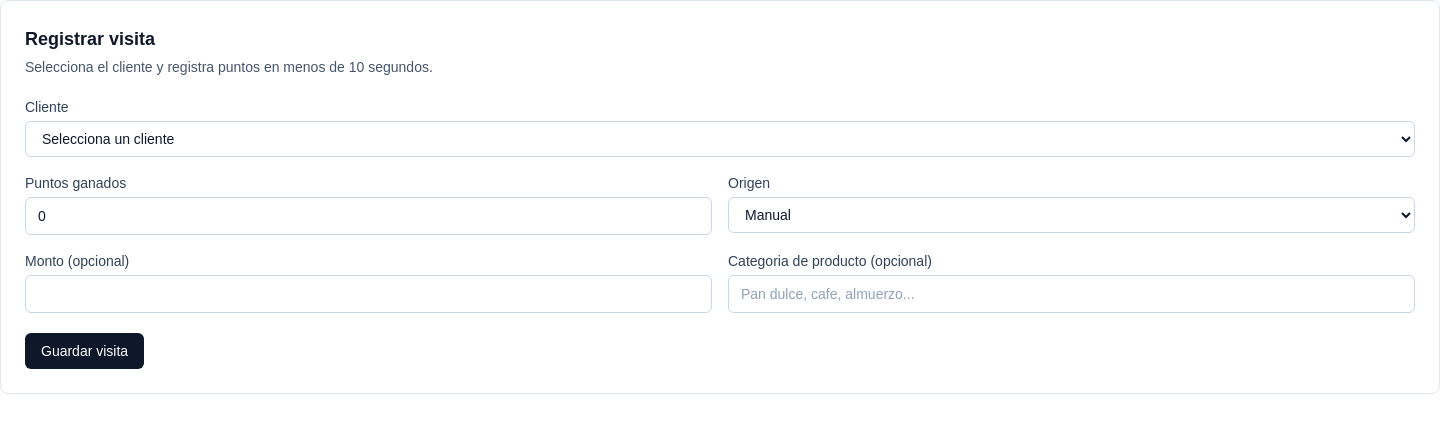
it: VisitForm integration › validation and error display › shows validation error for invalid points earned
This screenshot has width=1440, height=431.
What coordinates should you click on to do the following:
click the button "Guardar visita"
I would click on:
 (85, 351)
Its box is [25,333,144,369].
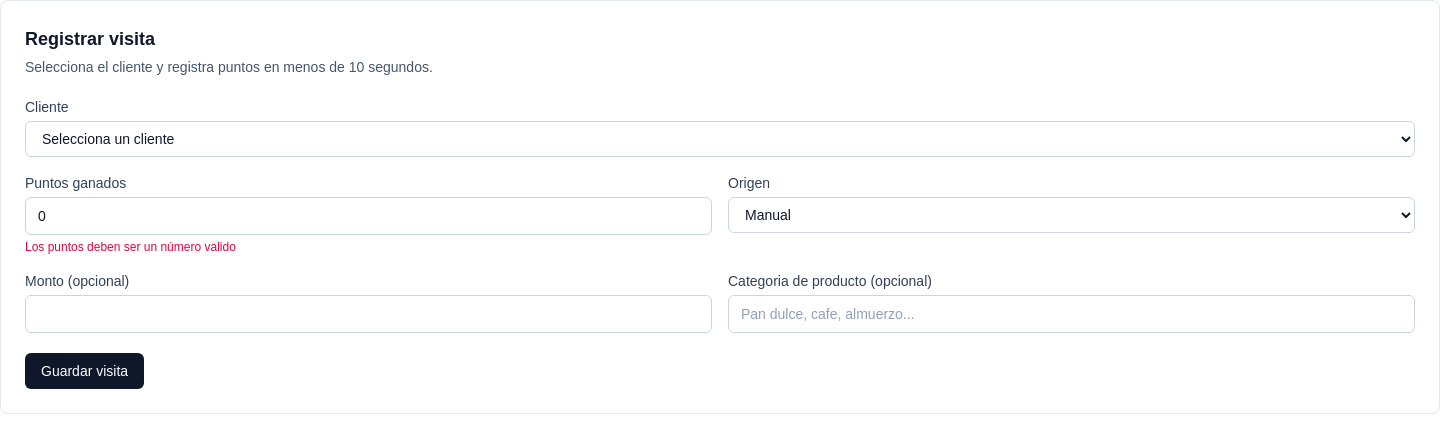
Check: the text "Los puntos deben ser un número valido" is shown, box [25,240,236,254]
